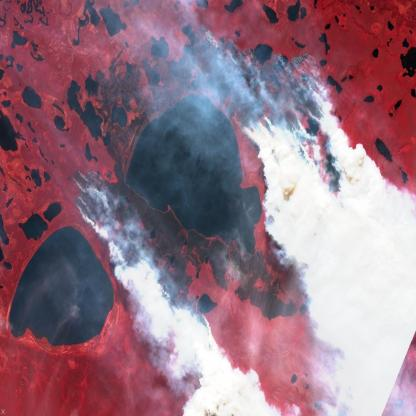fire: (69, 19, 355, 416)
